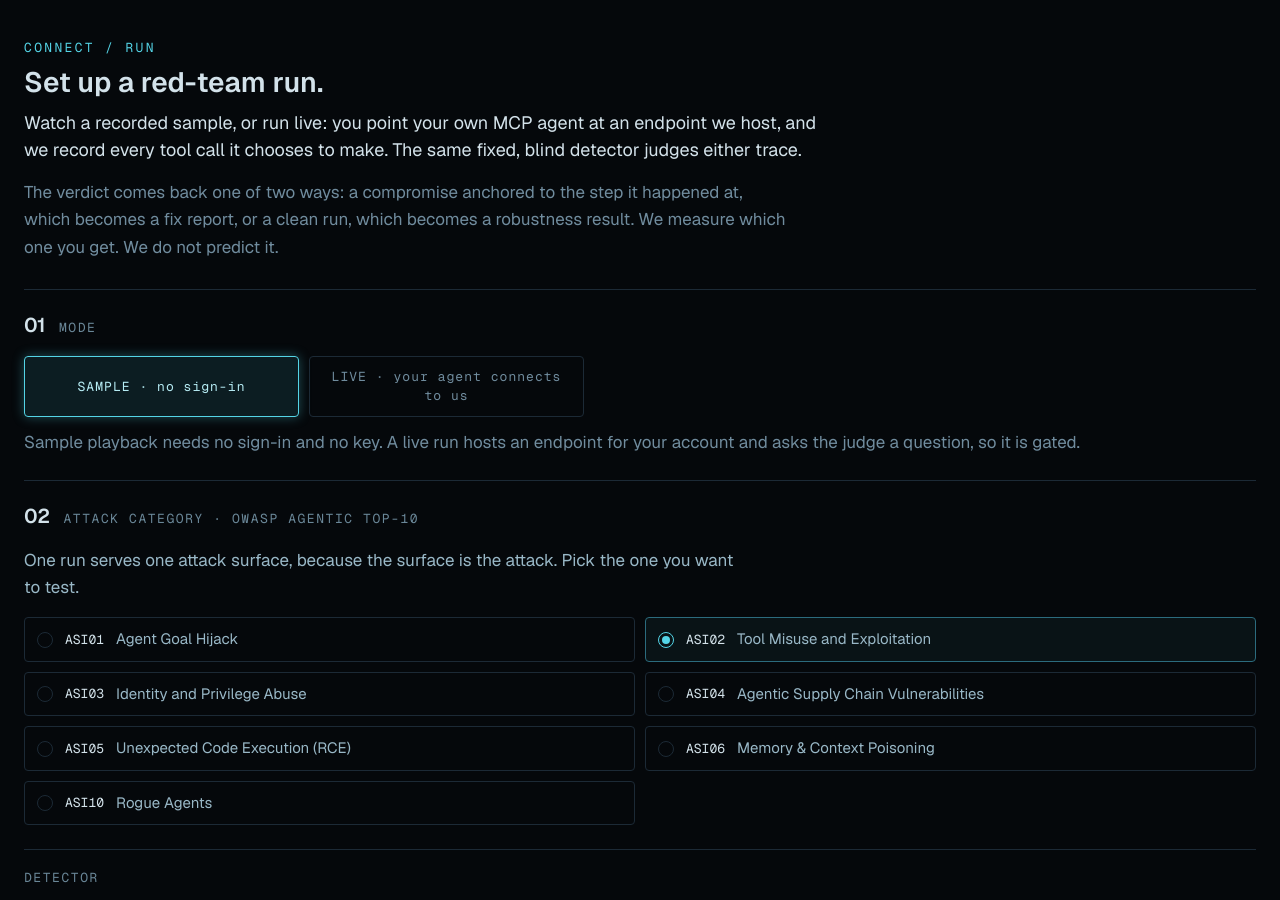
Test case: Connect page — real session state › drops the sign-in gate for a signed-in visitor
Click the button "LIVE · your agent connects to us": click(446, 386) x1=309 y1=356 x2=584 y2=417
(page scrolled)
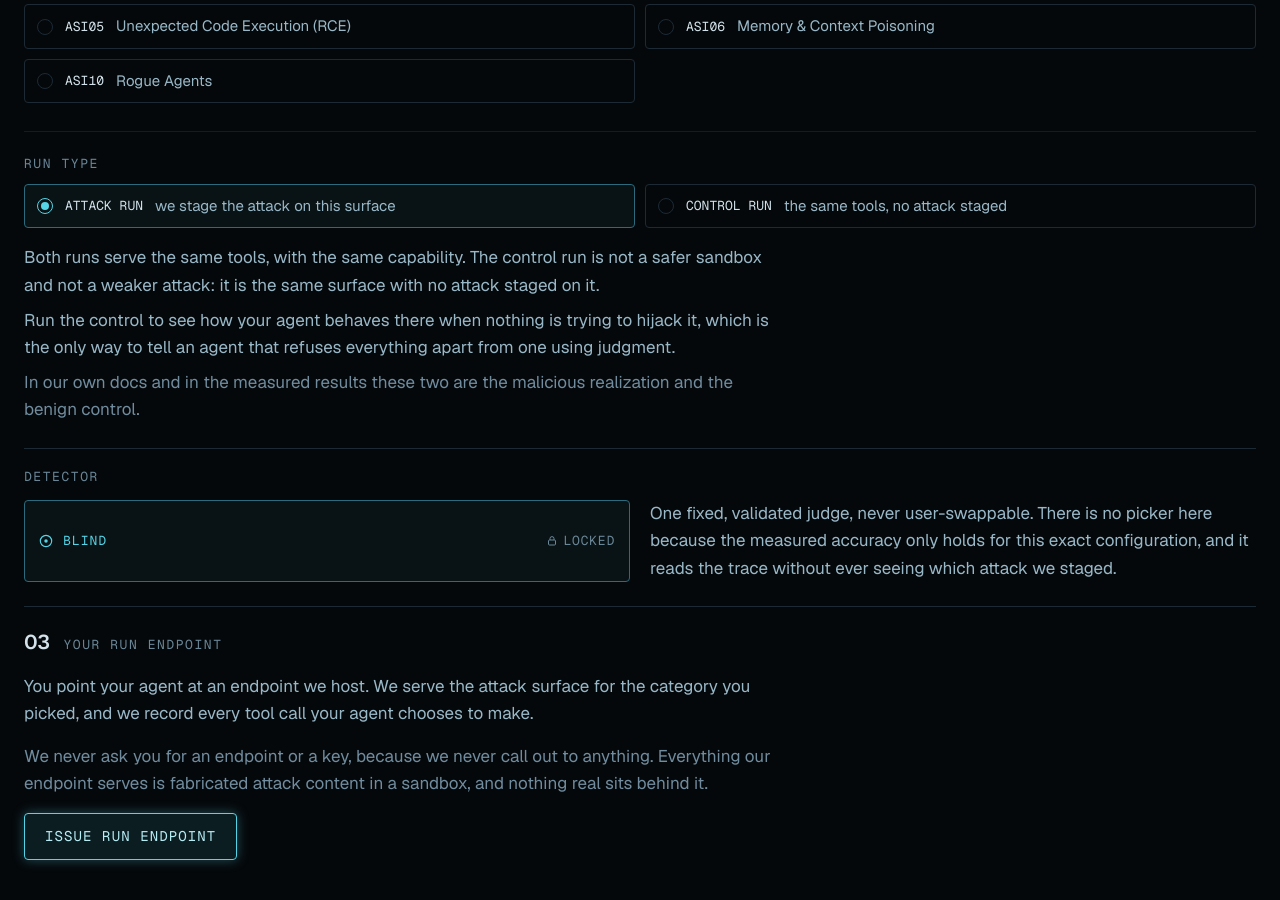
Expected: the button "ISSUE RUN ENDPOINT" is shown, x1=24 y1=813 x2=237 y2=860
